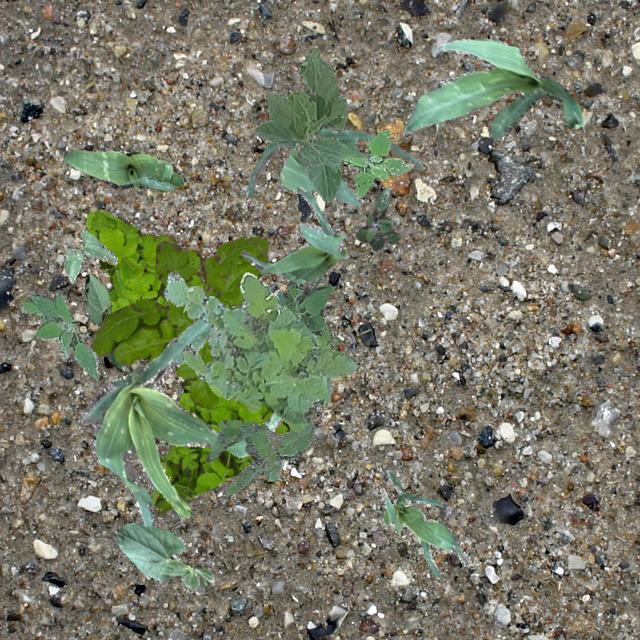crop: (80, 318, 282, 528), (402, 38, 582, 138), (254, 46, 346, 202), (245, 126, 422, 206), (240, 186, 348, 296), (378, 470, 466, 578), (110, 522, 214, 594), (62, 148, 184, 190), (84, 272, 124, 370), (62, 228, 116, 282)
weed: (84, 208, 290, 512), (162, 272, 360, 432), (90, 236, 268, 408), (204, 418, 314, 496), (18, 292, 98, 378), (342, 128, 412, 198), (274, 278, 339, 349), (354, 187, 400, 250)
